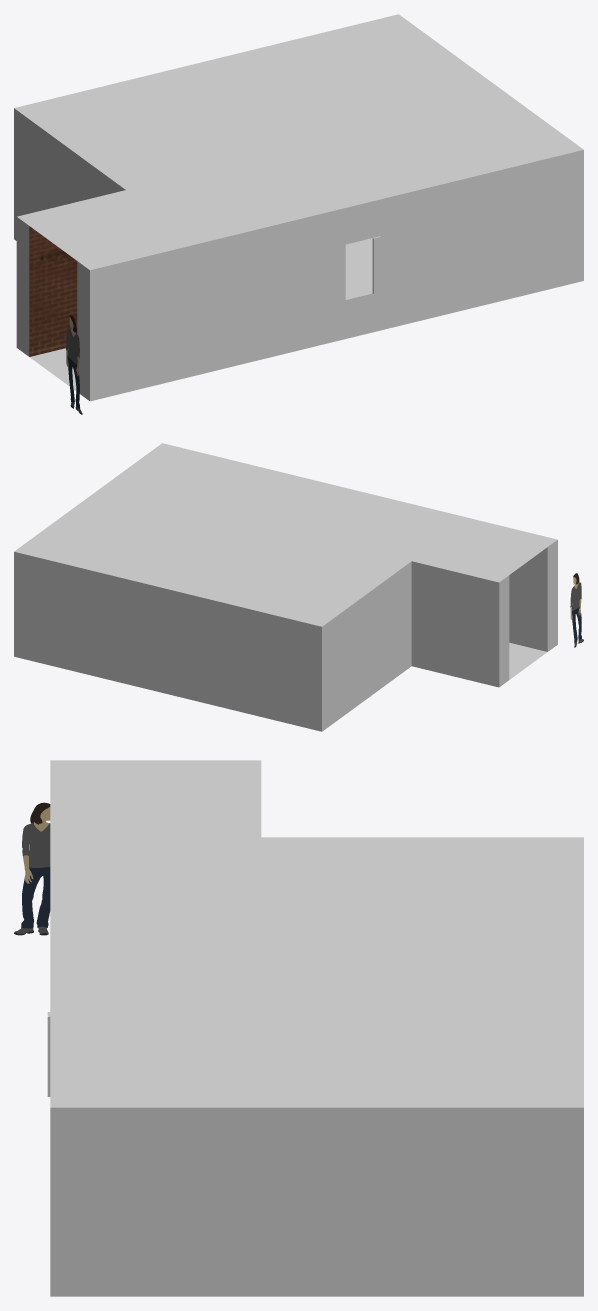
The model's file is sketchup_house.dae.
3 renders of one model, top to bottom at view 1: azimuth 30°, elevation 25°; view 2: azimuth 150°, elevation 25°; view 3: azimuth 270°, elevation 25°, orthographic. The views are drawn at different scales.
Visible parts, largest first — view 1: SketchUp (×2); view 2: SketchUp; view 3: SketchUp, Susan (×2).
Part boxes in pixels (x1,y1,x2,y2): SketchUp (×2): (14,14,583,401); SketchUp: (14,443,557,731); SketchUp: (50,760,583,1296); Susan (×2): (21,822,50,928).
Size of the model in its own units: 389 by 259 by 94.88.
9 materials, 1 textured.
